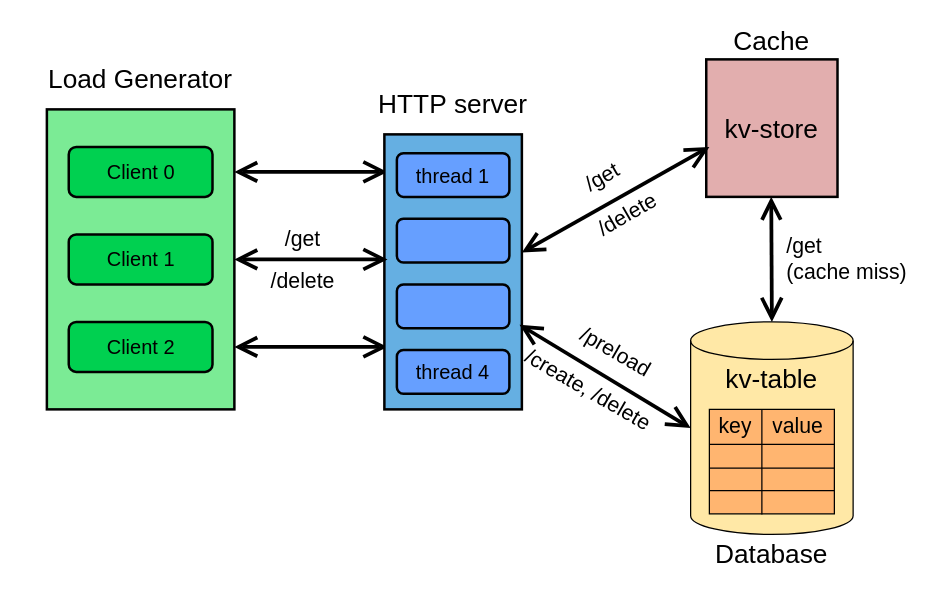
The diagram is 943 pixels wide and 593 high, and some of its shapes have lost their labels. Here are the shapes that lost their labels. From the top down, the box of each, then its label:
(395, 217, 510, 263): thread 2
(395, 282, 510, 329): thread 3
